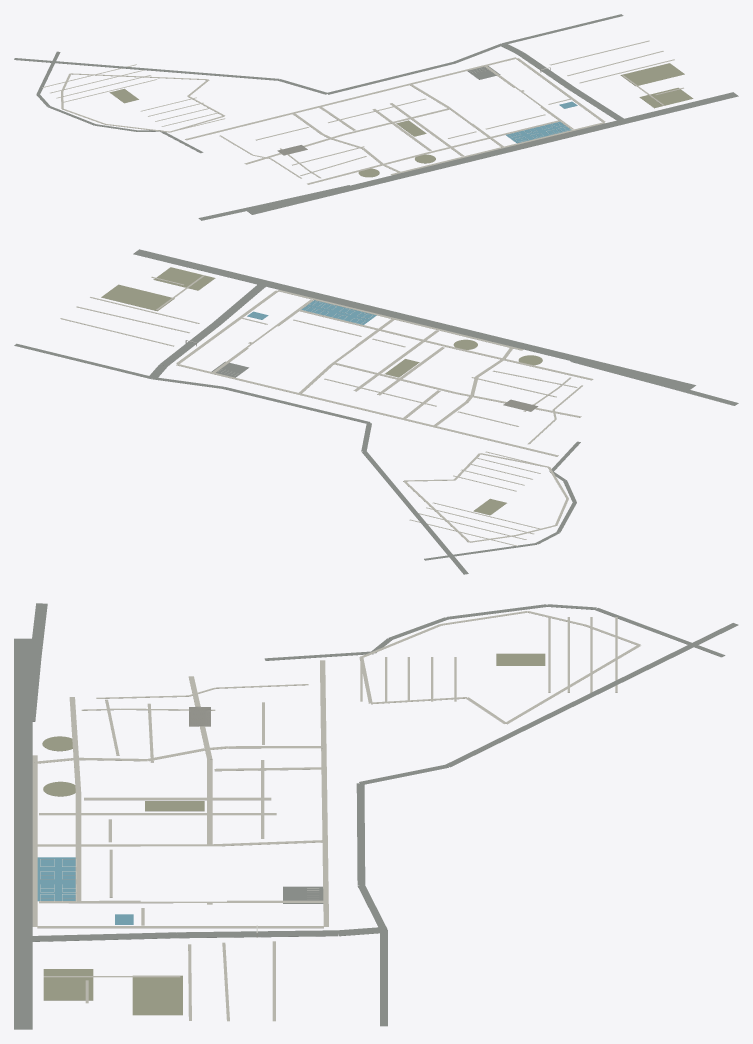
The model's file is shared-00-far-photo.glb.
The picture shows the model from 3 angles, top to bottom: view 1: azimuth 30°, elevation 25°; view 2: azimuth 150°, elevation 25°; view 3: azimuth 270°, elevation 25°; orthographic projection. The views are drawn at different scales.
Visible parts, largest first — view 1: 邯郸路.001, Campus east west road.008, 东区草坪.001, 北侧边界道路.005, 室外球场.001, 新闻学院庭院.001, Campus east west road.015, 国定路.004, 北侧边界道路.007, 国定路.003, 北侧边界道路.009; view 2: 邯郸路.001, 东区草坪.001, Campus east west road.008, 室外球场.001, 北侧边界道路.005, 新闻学院庭院.001, Campus east west road.015; view 3: 邯郸路.001, 东区草坪.001, 室外球场.001, 北侧边界道路.005, Campus east west road.008, 新闻学院庭院.001, 国定路.004, 国定路.003, Campus east west road.015, Campus north south road.023, Campus north south road.022, 北侧边界道路.007 (+4 smaller).
Boxes of the visible parts, x1,y1,x2,y2 form: 邯郸路.001: (247, 92, 738, 214); Campus east west road.008: (185, 57, 516, 140); 东区草坪.001: (620, 63, 684, 86); 北侧边界道路.005: (14, 58, 279, 80); 室外球场.001: (506, 121, 571, 143); 新闻学院庭院.001: (639, 87, 693, 108); Campus east west road.015: (390, 122, 605, 175); 国定路.004: (517, 52, 574, 89); 北侧边界道路.007: (327, 62, 454, 94); 国定路.003: (568, 87, 626, 122); 北侧边界道路.009: (502, 14, 623, 43); 邯郸路.001: (133, 249, 695, 389); 东区草坪.001: (101, 284, 174, 311); Campus east west road.008: (176, 364, 558, 456); 室外球场.001: (301, 300, 376, 324); 北侧边界道路.005: (361, 451, 468, 574); 新闻学院庭院.001: (153, 267, 215, 290); Campus east west road.015: (277, 290, 523, 350); 邯郸路.001: (14, 638, 32, 1029); 东区草坪.001: (132, 975, 182, 1015); 室外球场.001: (37, 857, 75, 901); 北侧边界道路.005: (445, 623, 738, 767); Campus east west road.008: (320, 660, 328, 926); 新闻学院庭院.001: (43, 969, 93, 1000); 国定路.004: (177, 930, 338, 938); 国定路.003: (23, 932, 177, 941); Campus east west road.015: (32, 755, 37, 926); Campus north south road.023: (37, 926, 323, 928); Campus north south road.022: (39, 900, 326, 903); 北侧边界道路.007: (356, 783, 365, 885).
Size of what is drawn, in the model's own units: 1038 by 5.46 by 746.
10 materials, 1 textured.
